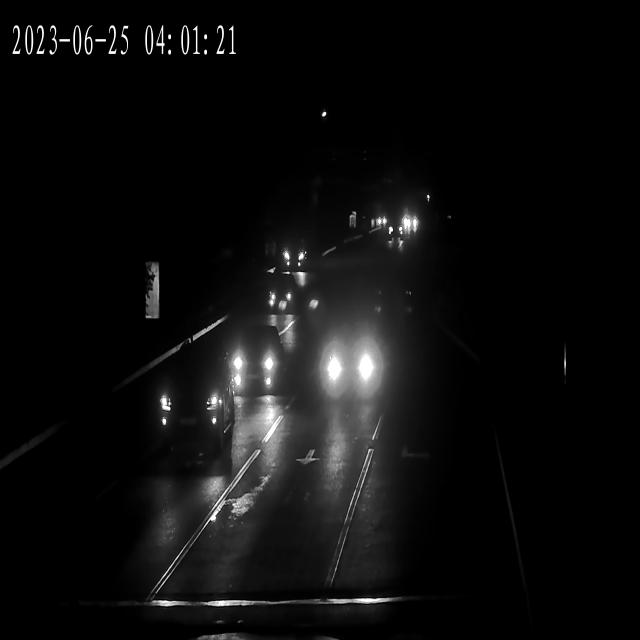Car: (149, 364, 240, 446), (320, 326, 388, 399), (226, 329, 288, 394), (267, 281, 299, 315), (278, 241, 309, 267), (386, 226, 406, 242), (385, 223, 404, 239), (400, 217, 419, 233), (372, 213, 390, 228)
